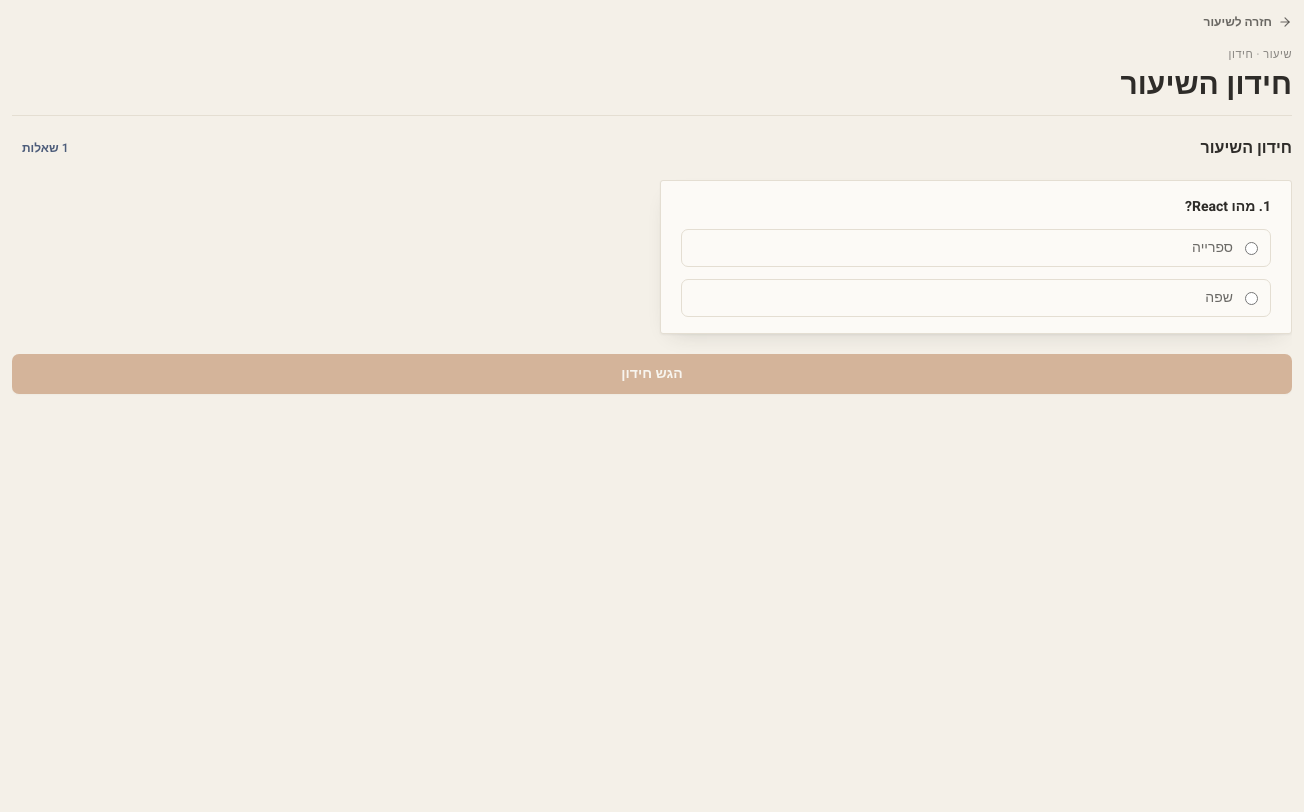
QuizPage › shows the correct answer for a question she got wrong
Click the radio button labelled "שפה" at x=1252, y=298, box left=1245, top=292, right=1258, bottom=305
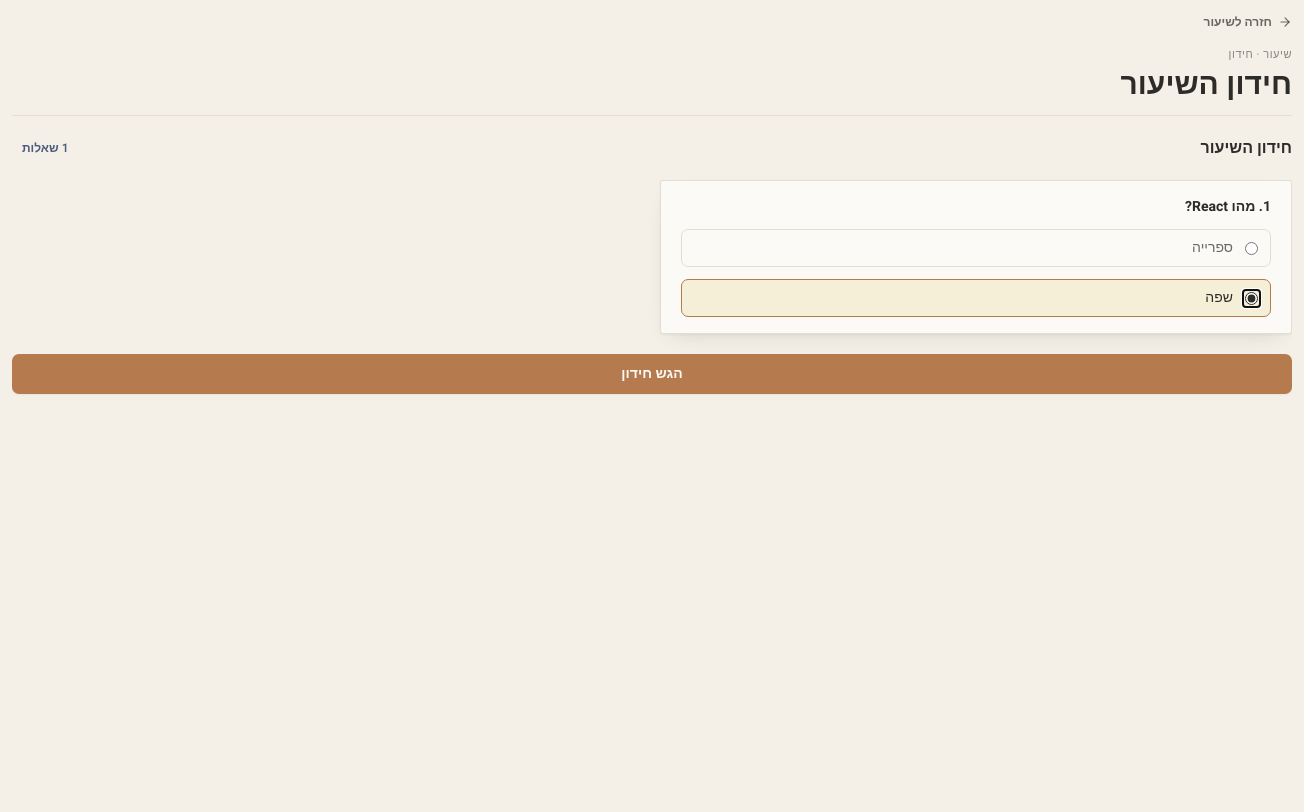
Click the button "הגש חידון" at x=652, y=374, box left=12, top=354, right=1292, bottom=394
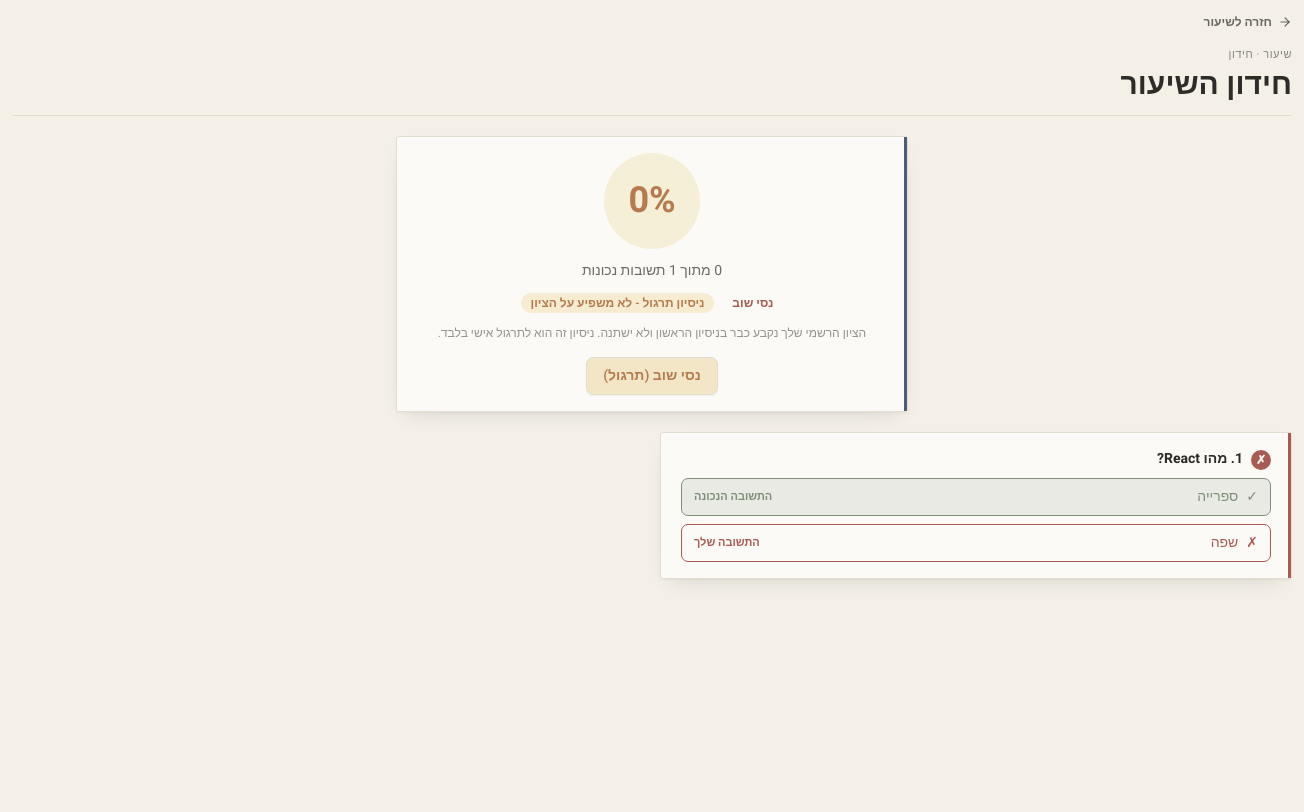
expect the text "התשובה שלך" is shown: met, box left=694, top=533, right=760, bottom=553
expect the text "התשובה הנכונה" is shown: met, box left=694, top=487, right=772, bottom=507
